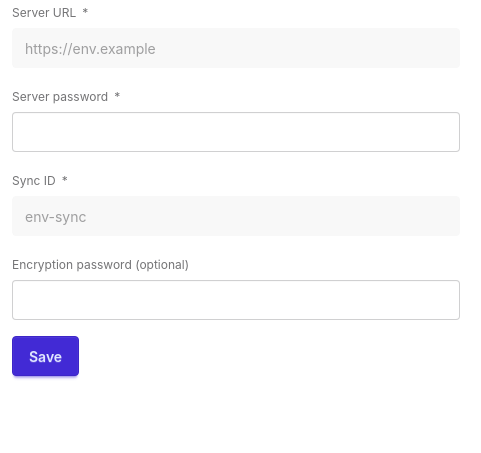
Test: ActualSettingsPage › locks env-provided fields and omits them from the PUT
Check: the field labelled "Server URL" holds "https://env.example", box [12,28,460,68]
Check: the field labelled "Server URL" is disabled, box [12,28,460,68]
Type "pw" into the password field labelled "Server password". click: point(236, 132)
box: [12,112,460,152]
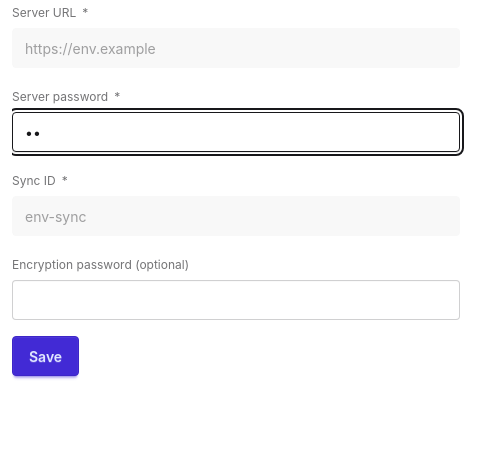
Click the button "Save". click: point(46, 356)
box: [12,336,79,376]
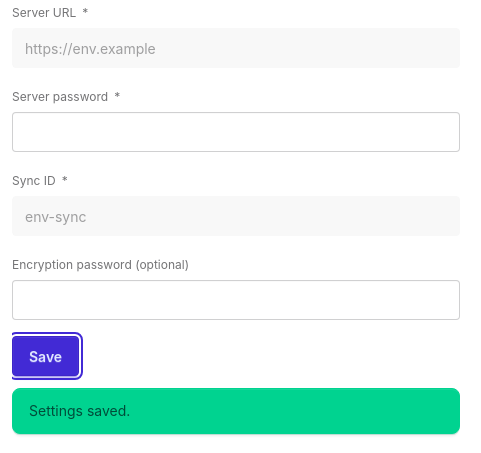
Check: the text "Settings saved." is shown, box [12,388,460,434]
